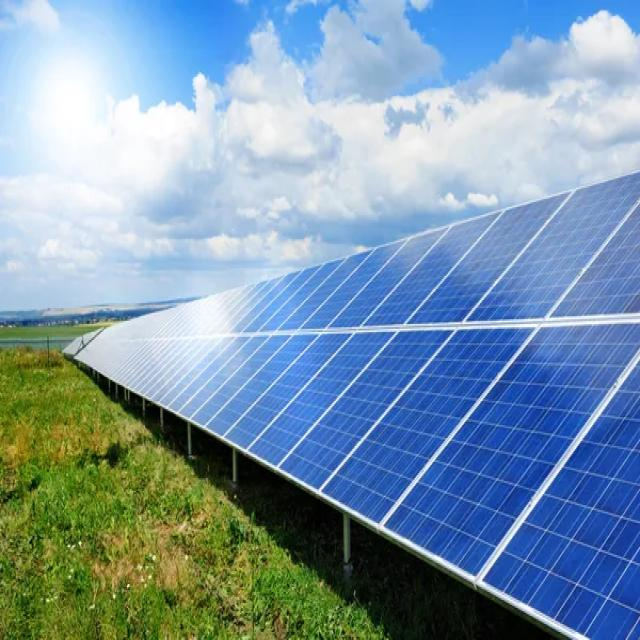clean-solar-panel: (67, 173, 640, 638)
